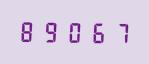eight: (18, 19, 39, 43)
nine: (40, 19, 61, 43)
seven: (106, 20, 127, 44)
six: (84, 20, 105, 44)
zero: (62, 19, 83, 44)
